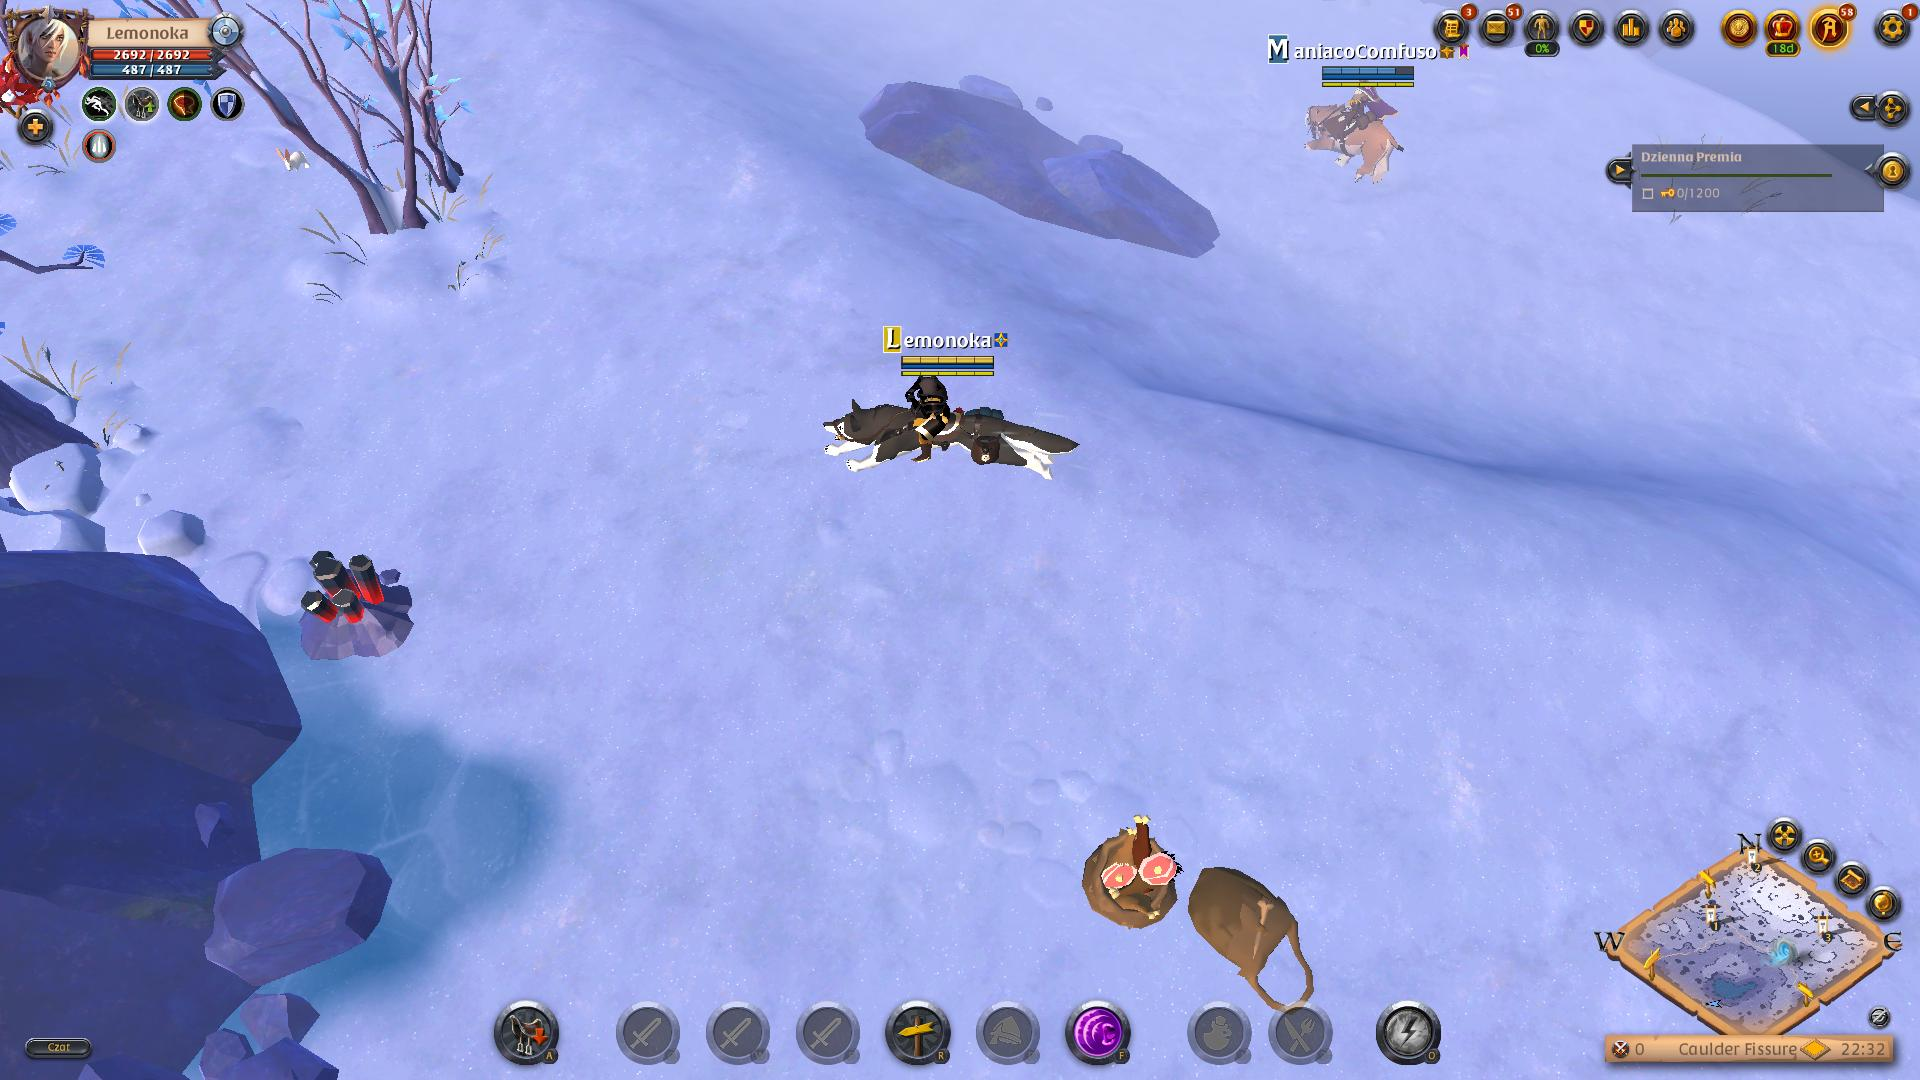ore tier 5: (295, 545, 417, 662)
